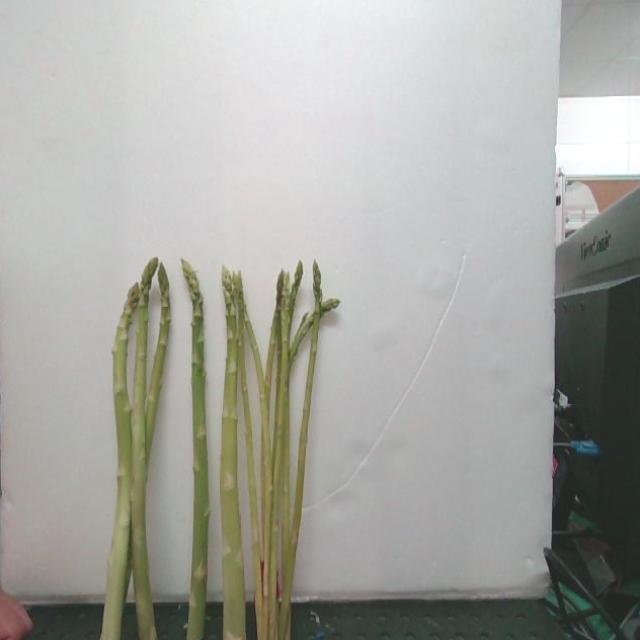aspargus: (100, 260, 336, 640)
